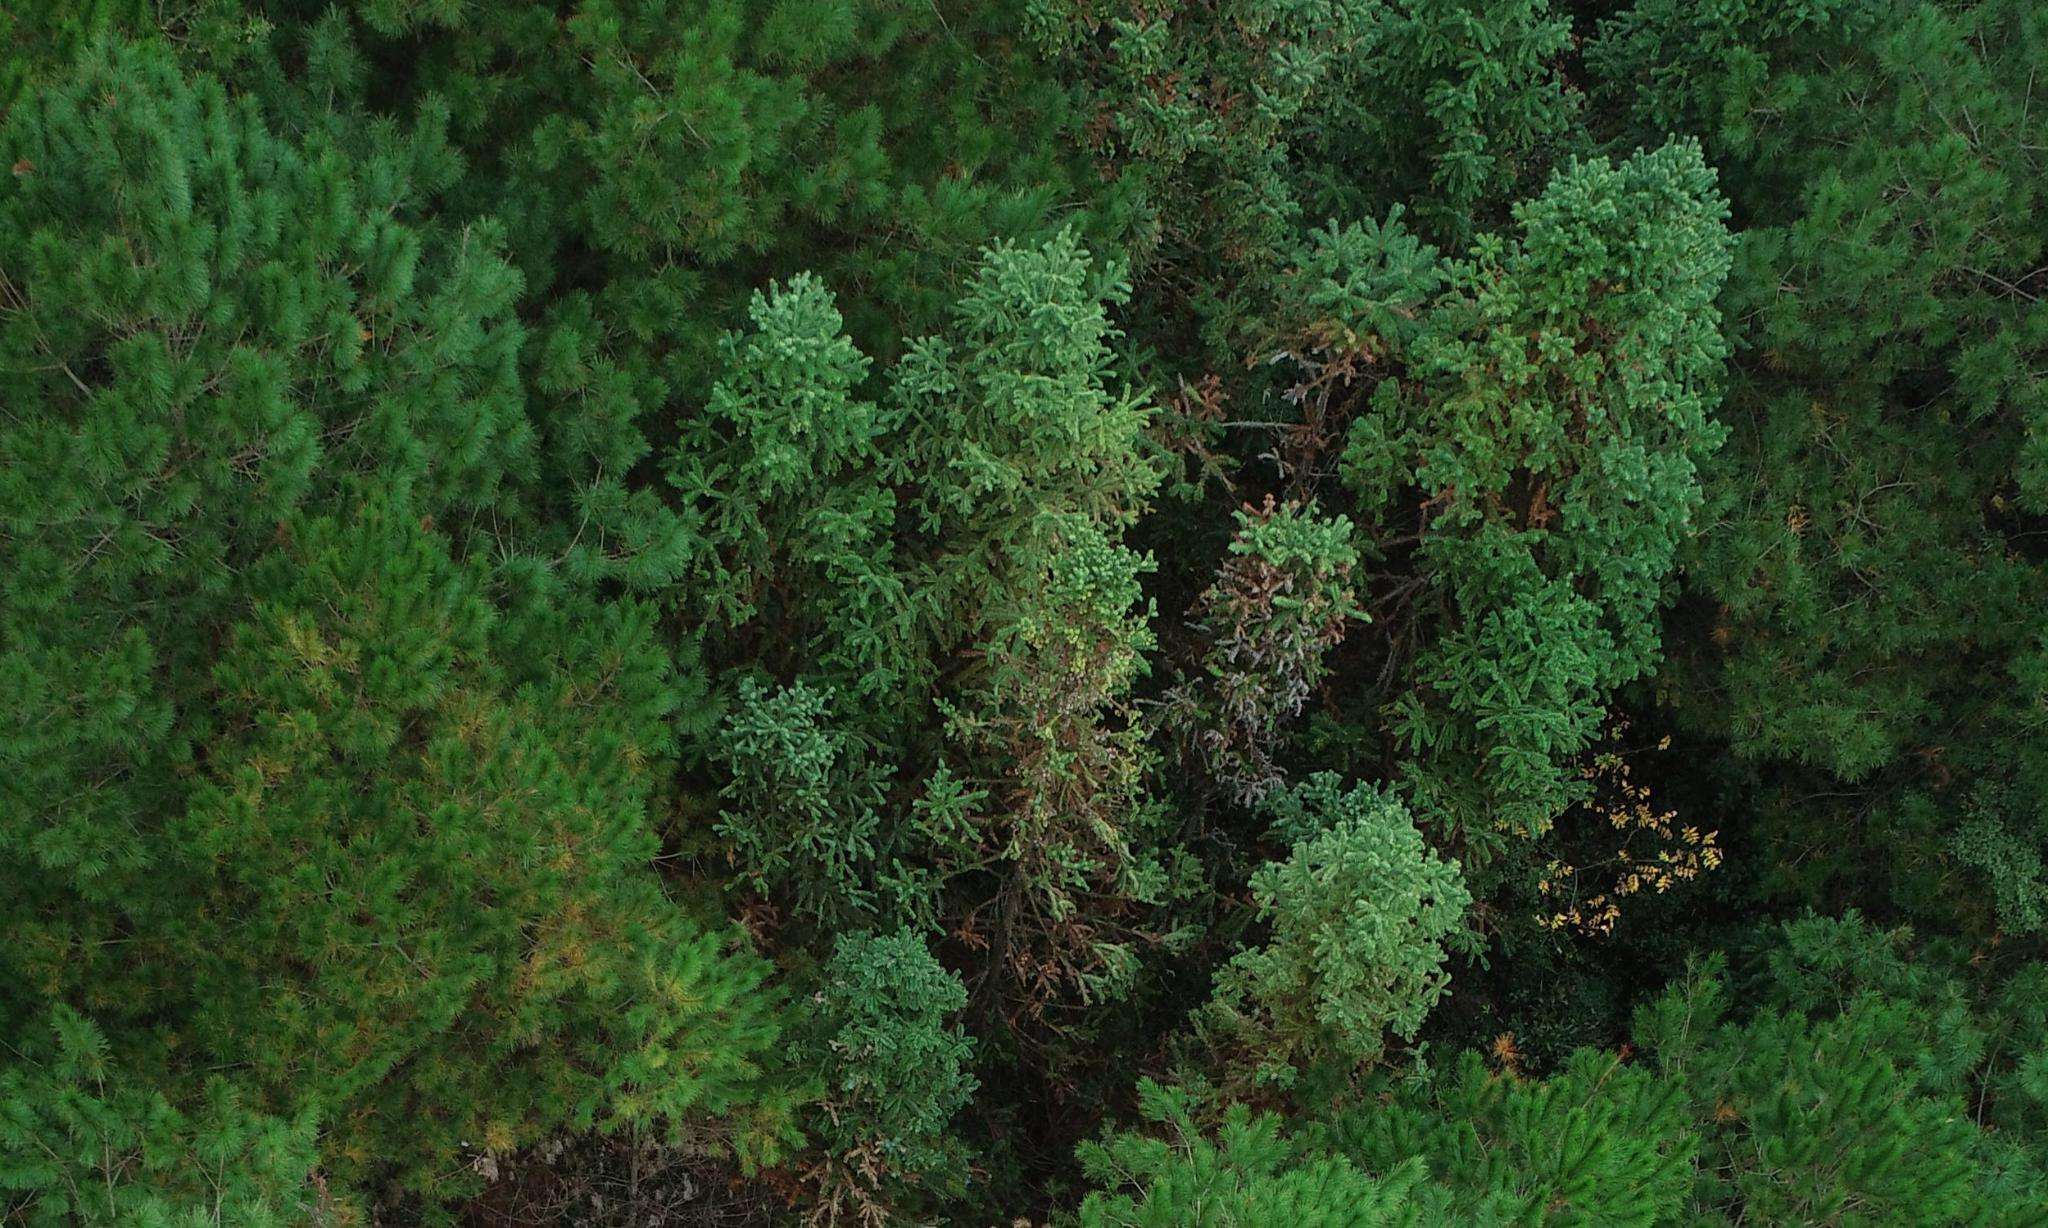light: (143, 529, 706, 1171)
